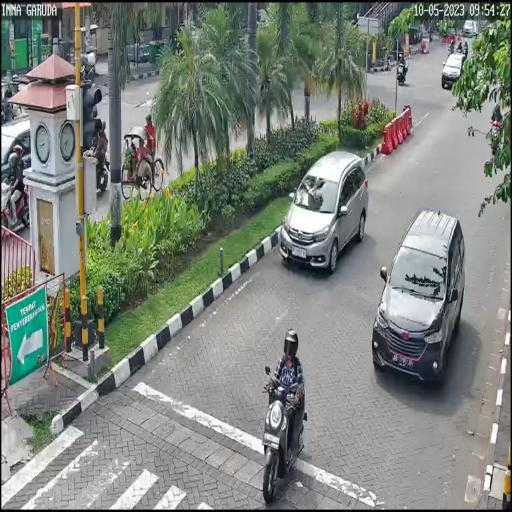mobil: (373, 204, 466, 389), (282, 148, 368, 277)
motor: (262, 362, 306, 504)
